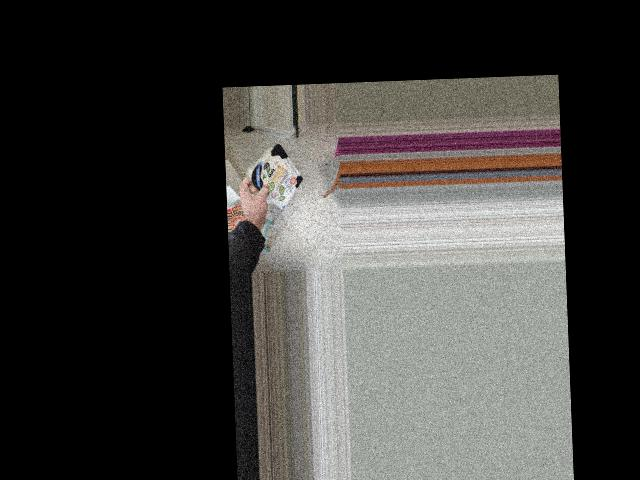cheese: (233, 144, 309, 201)
